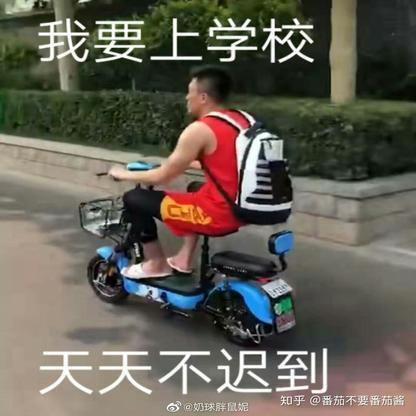target: (75, 66, 325, 345)
